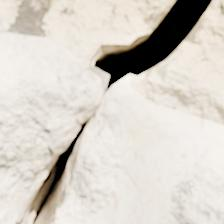broken_brick: (53, 82, 223, 223), (0, 30, 100, 221)
crack: (0, 0, 221, 223), (166, 106, 199, 118)
